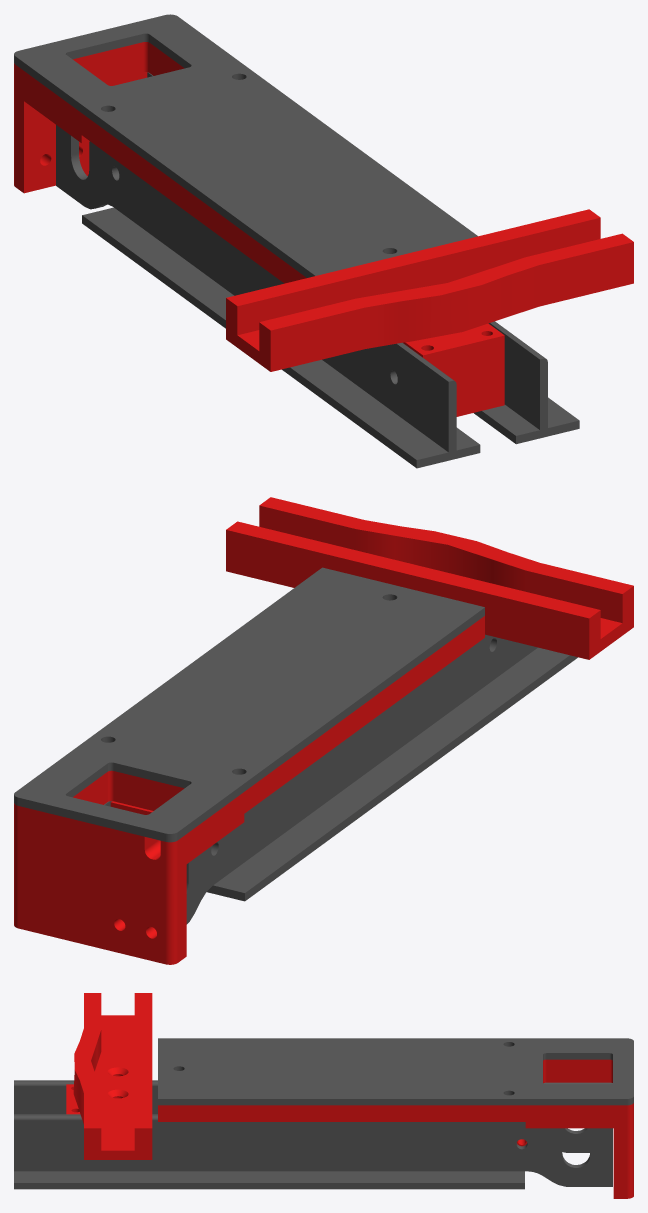
The model's file is Robot_2_Pusher.FBX.
3 renders of one model, top to bottom at view 1: azimuth 30°, elevation 25°; view 2: azimuth 150°, elevation 25°; view 3: azimuth 270°, elevation 25°, orthographic. The views are drawn at different scales.
Visible parts, largest first — view 1: Robot_2_Pusher; view 2: Robot_2_Pusher; view 3: Robot_2_Pusher.
Part boxes in pixels (x1,y1,x2,y2): Robot_2_Pusher: (14, 14, 633, 468); Robot_2_Pusher: (14, 497, 633, 964); Robot_2_Pusher: (14, 993, 633, 1198).
Bounding box in the file's own units: 9.15 × 17.72 × 3.4.
